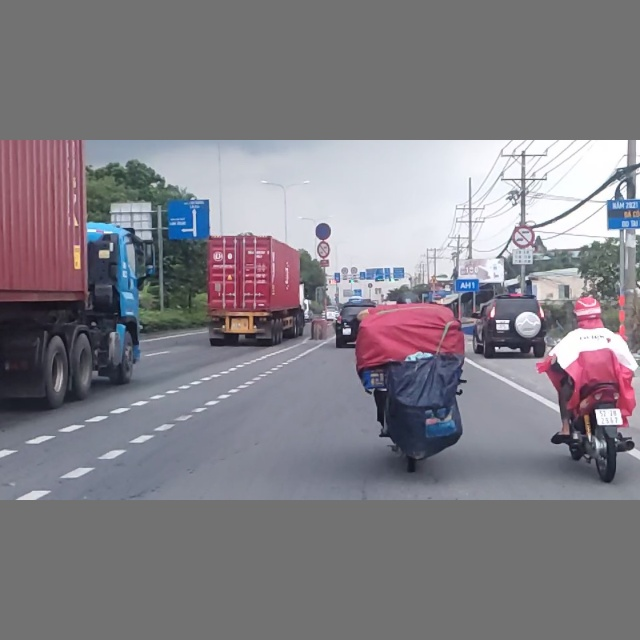P.107: (513, 224, 535, 248)
P.111: (317, 241, 330, 258)
P.130: (315, 222, 332, 239)
